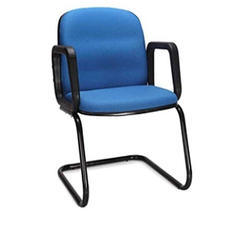chairs: (52, 8, 193, 209)
